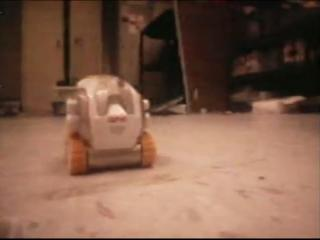cozmo: (62, 74, 156, 176)
